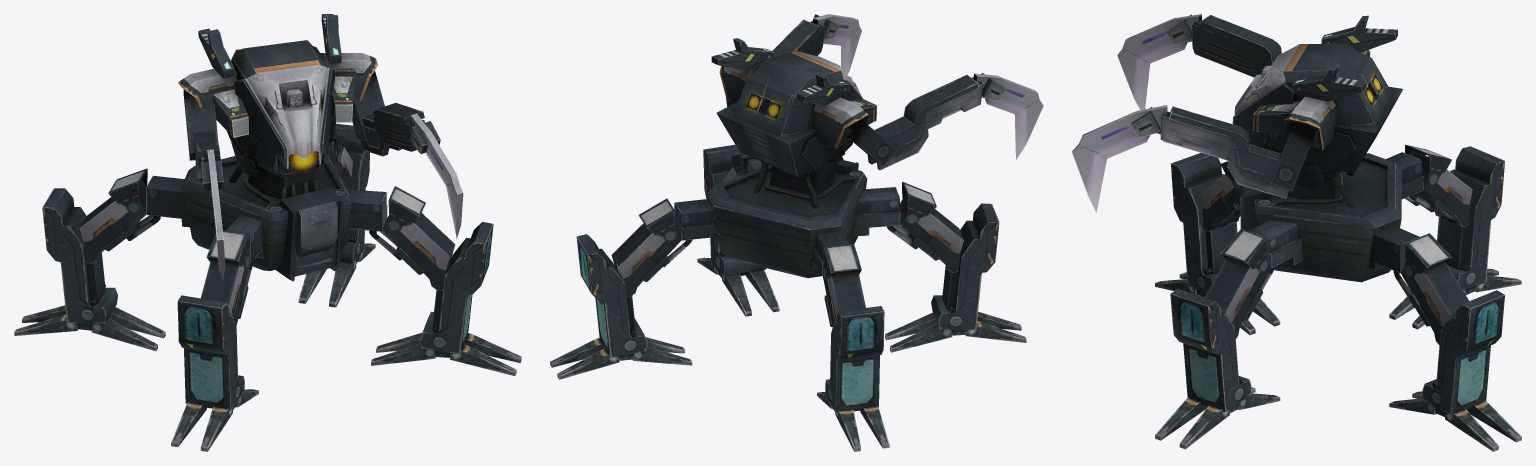
3 renders of one model, left to right at view 1: azimuth 30°, elevation 25°; view 2: azimuth 150°, elevation 25°; view 3: azimuth 270°, elevation 25°, orthographic. The views are drawn at different scales.
Visible parts, largest first — view 1: 20_10; view 2: 20_10; view 3: 20_10.
Part boxes in pixels (x1=…): 20_10: x1=14, y1=14, x2=521, y2=451; 20_10: x1=550, y1=14, x2=1043, y2=451; 20_10: x1=1072, y1=14, x2=1521, y2=451.
Size of the model in its own units: 301 by 255 by 319.
